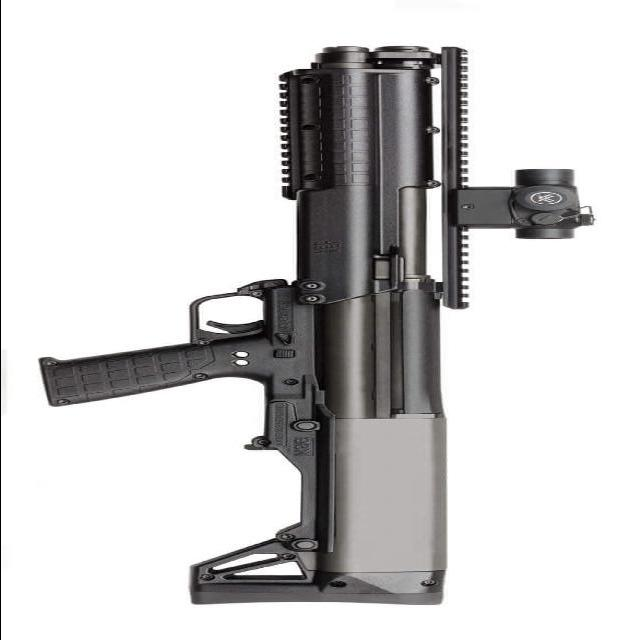rifle: (34, 43, 474, 621)
scope: (477, 159, 592, 260)
